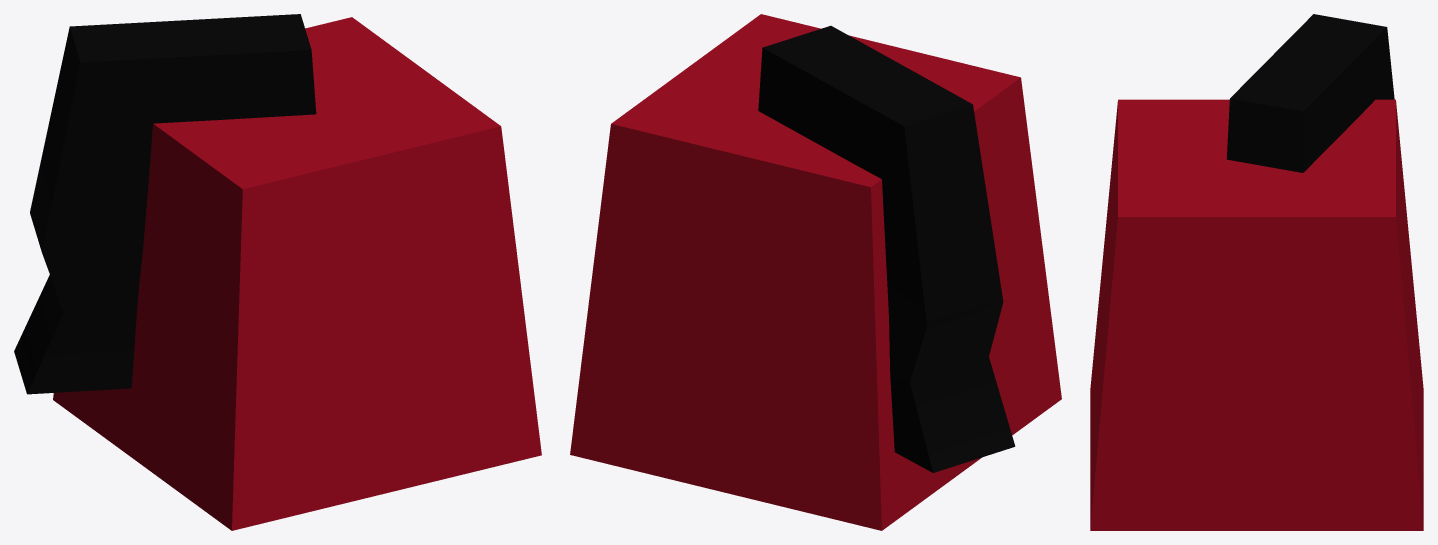
Rendered from Fez.fbx.
3 views of the same model, side by side, from view 1: azimuth 30°, elevation 25°; view 2: azimuth 150°, elevation 25°; view 3: azimuth 270°, elevation 25° (orthographic). The views are drawn at different scales.
Visible parts, largest first — view 1: polySurface3, polySurface4; view 2: polySurface3, polySurface4; view 3: polySurface3, polySurface4.
Boxes of the visible parts, x1=… form: polySurface3: x1=53, y1=17, x2=541, y2=530; polySurface4: x1=14, y1=14, x2=316, y2=394; polySurface3: x1=570, y1=14, x2=1061, y2=530; polySurface4: x1=758, y1=25, x2=1015, y2=472; polySurface3: x1=1090, y1=99, x2=1423, y2=530; polySurface4: x1=1226, y1=14, x2=1394, y2=172.
Bounding box in the file's own units: 61.97 × 59.09 × 49.35.
